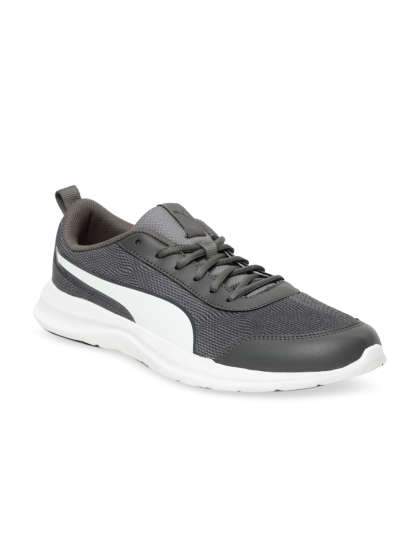bottle: (35, 171, 398, 400)
